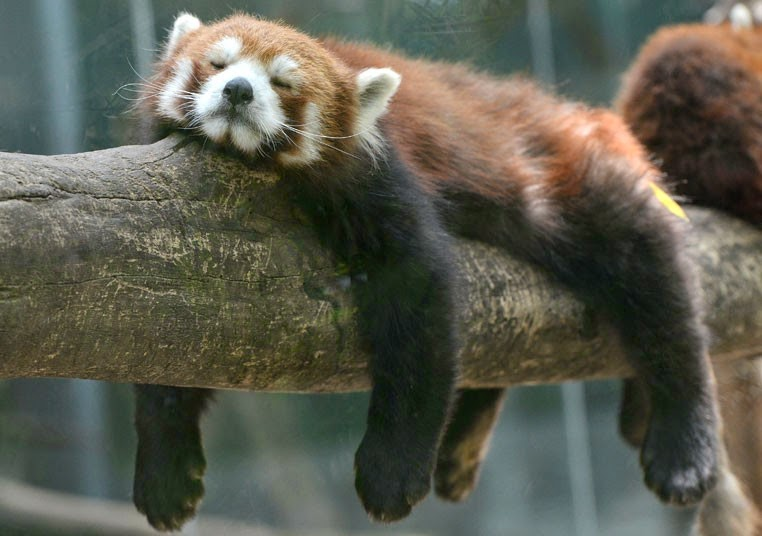red_panda: (118, 18, 688, 480), (628, 1, 762, 218)
